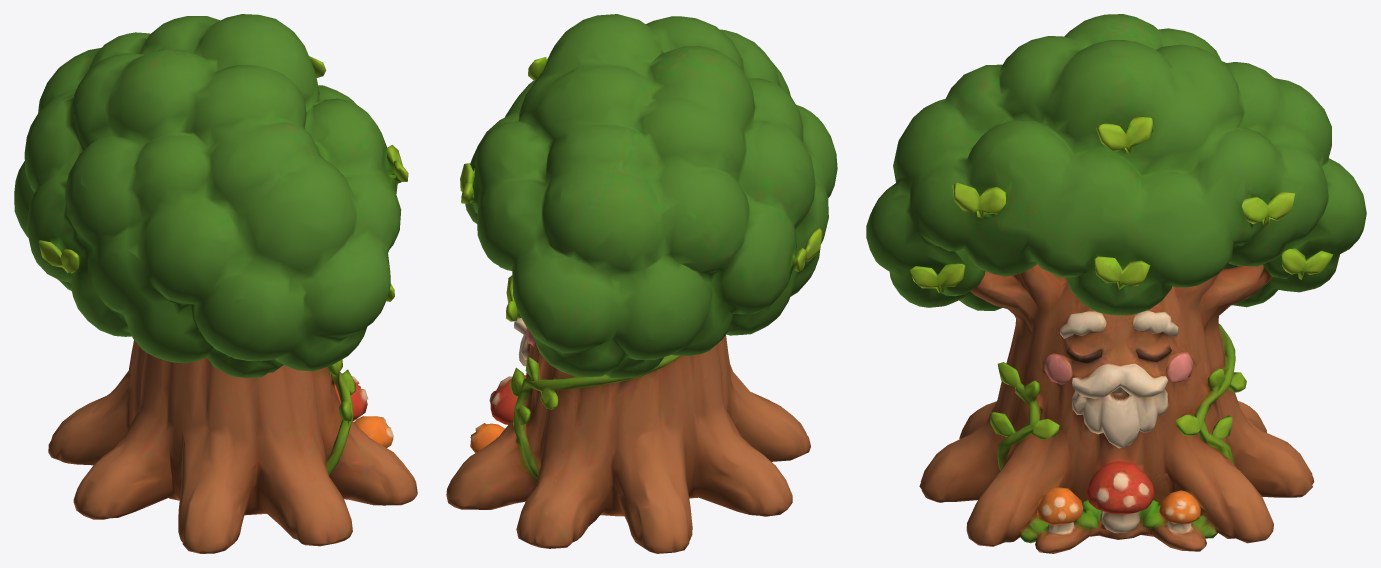
File: prop_face_tree.glb
3 views of the same model, side by side, from view 1: azimuth 30°, elevation 25°; view 2: azimuth 150°, elevation 25°; view 3: azimuth 270°, elevation 25° (orthographic).
Parts seen in each view (by area): view 1: tripo_node_06738d2e-afc9-4bbd-8878-7b66a93ad452; view 2: tripo_node_06738d2e-afc9-4bbd-8878-7b66a93ad452; view 3: tripo_node_06738d2e-afc9-4bbd-8878-7b66a93ad452.
Boxes of the visible parts, box(x1,y1,x2,y2) form: tripo_node_06738d2e-afc9-4bbd-8878-7b66a93ad452: box(14, 14, 417, 553); tripo_node_06738d2e-afc9-4bbd-8878-7b66a93ad452: box(446, 14, 837, 553); tripo_node_06738d2e-afc9-4bbd-8878-7b66a93ad452: box(866, 14, 1366, 553).
Size of the model in its own units: 0.7461 by 0.9976 by 0.9974.
1 material, 1 textured.
